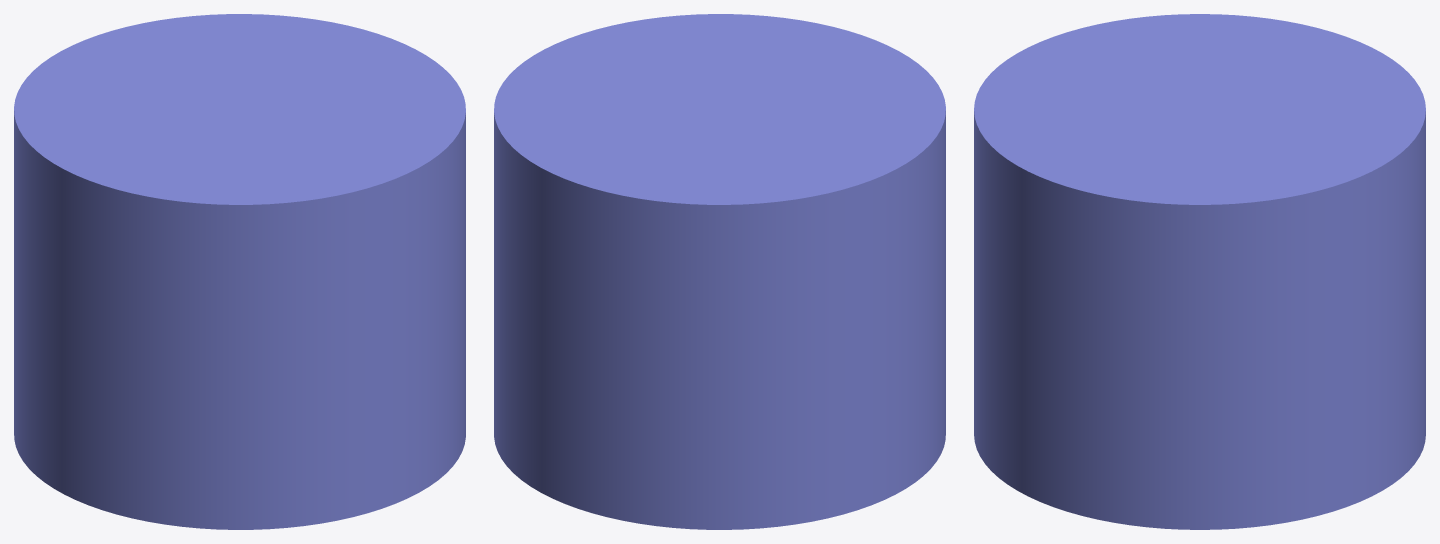
Rendered from mug2.glb.
The picture shows the model from 3 angles, left to right: view 1: azimuth 30°, elevation 25°; view 2: azimuth 150°, elevation 25°; view 3: azimuth 270°, elevation 25°; orthographic projection.
Visible parts, largest first — view 1: mesh_id27; view 2: mesh_id27; view 3: mesh_id27.
Boxes of the visible parts, x1=… form: mesh_id27: x1=14, y1=14, x2=465, y2=529; mesh_id27: x1=494, y1=14, x2=945, y2=529; mesh_id27: x1=974, y1=14, x2=1425, y2=529.
Size of the model in its own units: 0.4069 by 0.3228 by 0.4069.
